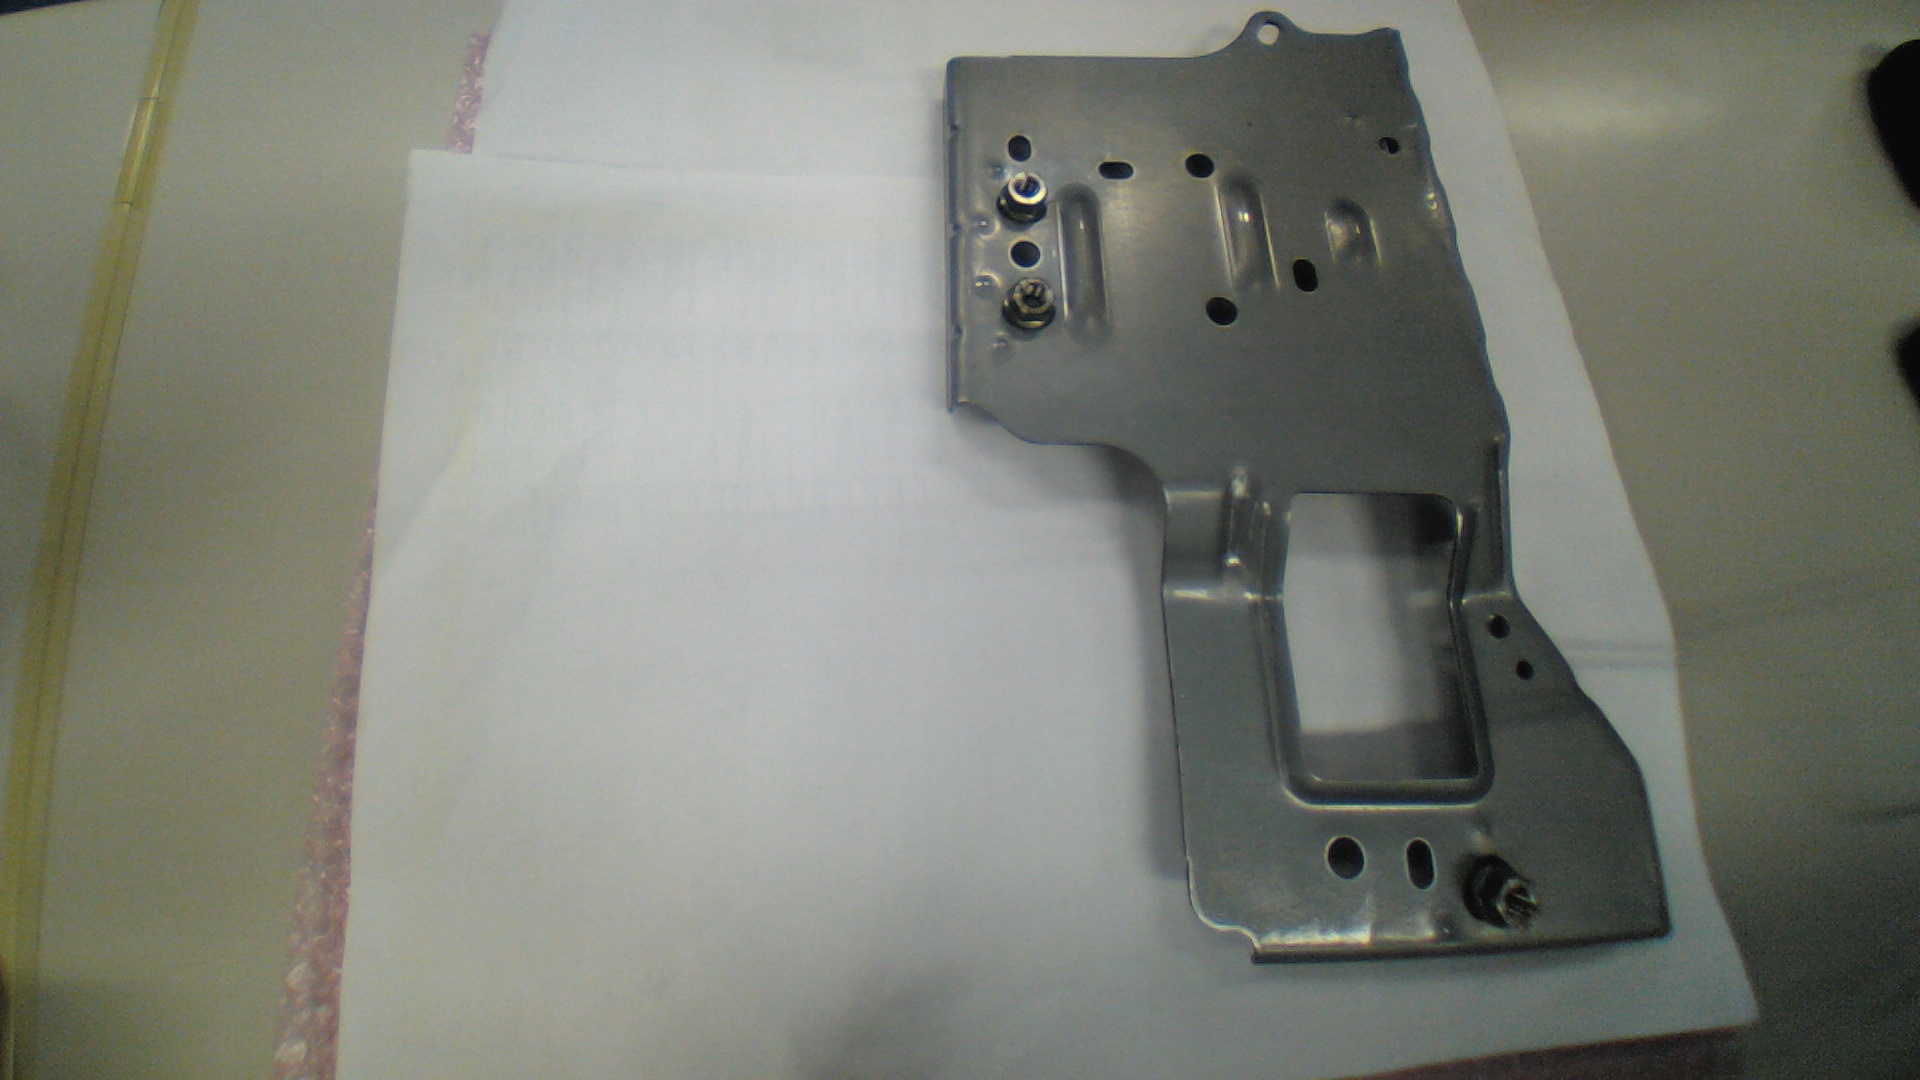dog: (1465, 855, 1543, 927), (1004, 277, 1060, 338), (997, 169, 1046, 228)
